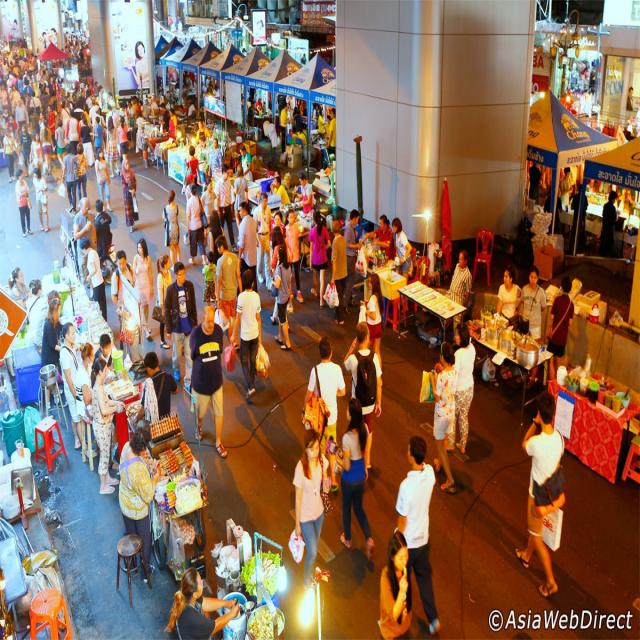body: (512, 387, 569, 602), (393, 434, 445, 638), (299, 334, 347, 496), (332, 395, 376, 563), (287, 428, 331, 594), (117, 424, 162, 586), (222, 268, 272, 402), (343, 320, 383, 471), (189, 306, 228, 460), (72, 340, 118, 470), (161, 572, 241, 639), (90, 355, 126, 496), (162, 261, 199, 395), (59, 320, 95, 455), (428, 340, 458, 495), (375, 527, 416, 639), (446, 322, 477, 455), (132, 350, 180, 428), (518, 265, 547, 390), (214, 234, 244, 352), (357, 271, 385, 389), (41, 298, 68, 419), (548, 274, 575, 381), (268, 244, 293, 353), (110, 248, 136, 351), (78, 235, 108, 324), (306, 208, 332, 310), (130, 236, 155, 342), (269, 224, 291, 334), (340, 207, 362, 315), (236, 200, 258, 306), (252, 190, 275, 289), (214, 164, 239, 254), (391, 216, 413, 315), (72, 196, 96, 286), (284, 208, 305, 304), (57, 142, 85, 214), (186, 182, 209, 268), (361, 213, 396, 269), (330, 218, 348, 326), (160, 190, 183, 274), (446, 248, 473, 318), (154, 254, 173, 350), (28, 278, 50, 355), (119, 156, 140, 234), (8, 266, 34, 326), (12, 167, 34, 237), (117, 42, 149, 90), (570, 182, 590, 258), (230, 162, 249, 242), (92, 147, 114, 214), (496, 266, 522, 322), (599, 190, 620, 259), (92, 198, 112, 262), (29, 52, 78, 78), (31, 165, 50, 232), (558, 59, 592, 92), (543, 184, 564, 237), (201, 250, 218, 312), (184, 172, 198, 245), (208, 208, 225, 268), (104, 115, 120, 178), (73, 142, 89, 204), (294, 173, 318, 214), (91, 332, 114, 370), (200, 178, 218, 225), (6, 122, 21, 178), (0, 38, 30, 66), (2, 127, 16, 183), (269, 176, 292, 210), (182, 145, 201, 186), (29, 131, 46, 176), (63, 24, 92, 50), (558, 166, 574, 211), (44, 289, 64, 325), (18, 123, 32, 174), (66, 109, 81, 156), (88, 116, 103, 162), (54, 118, 68, 167), (269, 210, 287, 248), (528, 158, 542, 206), (207, 137, 223, 178), (41, 119, 52, 177), (40, 20, 61, 50), (14, 97, 30, 135), (117, 116, 130, 161), (238, 44, 272, 61), (133, 216, 171, 231), (239, 144, 253, 183), (280, 101, 290, 155), (194, 119, 212, 149), (46, 104, 56, 158), (326, 109, 336, 161), (91, 105, 105, 142), (88, 99, 100, 142), (60, 77, 80, 101), (317, 107, 328, 150), (157, 101, 171, 134), (127, 99, 136, 148), (269, 169, 285, 196), (104, 104, 120, 130), (9, 83, 21, 117), (253, 12, 265, 46), (28, 106, 39, 142), (176, 104, 189, 134), (167, 107, 178, 142), (297, 124, 307, 162), (1, 106, 11, 144), (49, 88, 59, 125), (288, 124, 298, 160), (59, 98, 71, 128), (6, 18, 24, 38), (130, 96, 139, 133), (135, 111, 145, 143), (40, 87, 49, 122), (290, 98, 303, 122), (247, 99, 258, 127), (79, 68, 93, 90), (0, 84, 8, 122), (38, 112, 48, 142), (106, 91, 115, 124), (72, 100, 85, 122), (29, 90, 42, 112), (10, 72, 18, 106), (205, 82, 214, 109), (276, 93, 287, 115), (48, 76, 56, 106), (324, 115, 331, 149), (0, 113, 6, 151), (313, 102, 321, 130), (136, 98, 144, 126), (0, 73, 7, 103), (626, 86, 634, 112), (52, 77, 61, 100), (248, 82, 256, 106), (27, 93, 33, 125), (38, 76, 48, 95), (98, 83, 105, 110), (78, 110, 88, 128), (23, 79, 33, 97), (181, 70, 187, 100), (6, 114, 17, 130), (187, 100, 196, 119), (83, 102, 90, 126), (78, 89, 86, 110), (17, 74, 25, 95), (1, 60, 9, 81), (119, 96, 128, 114), (6, 74, 14, 94), (255, 97, 263, 116), (85, 92, 93, 110), (78, 47, 85, 67), (85, 50, 92, 69), (7, 60, 13, 82), (186, 73, 194, 89), (177, 17, 183, 38), (240, 87, 246, 107), (170, 20, 176, 38), (22, 58, 29, 72), (301, 52, 307, 66), (12, 64, 18, 78), (34, 78, 40, 92), (206, 75, 212, 88), (183, 32, 188, 47), (168, 14, 172, 32), (86, 83, 91, 97), (24, 70, 30, 80), (176, 78, 180, 89)
